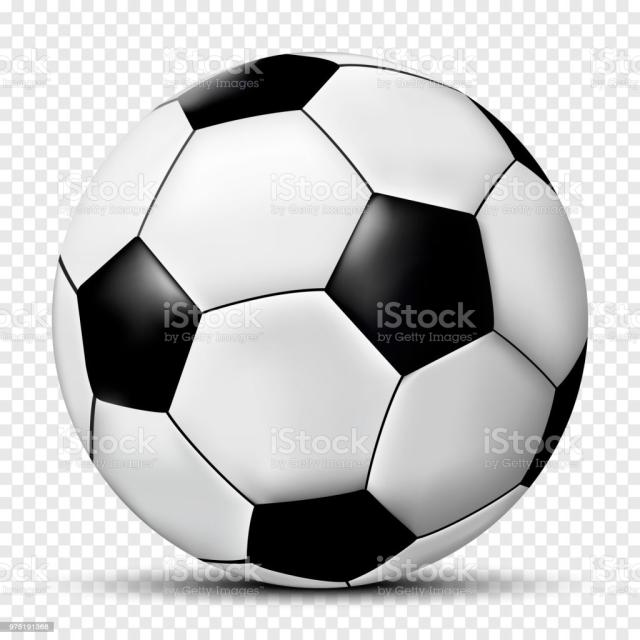soccer ball: (55, 52, 590, 590)
